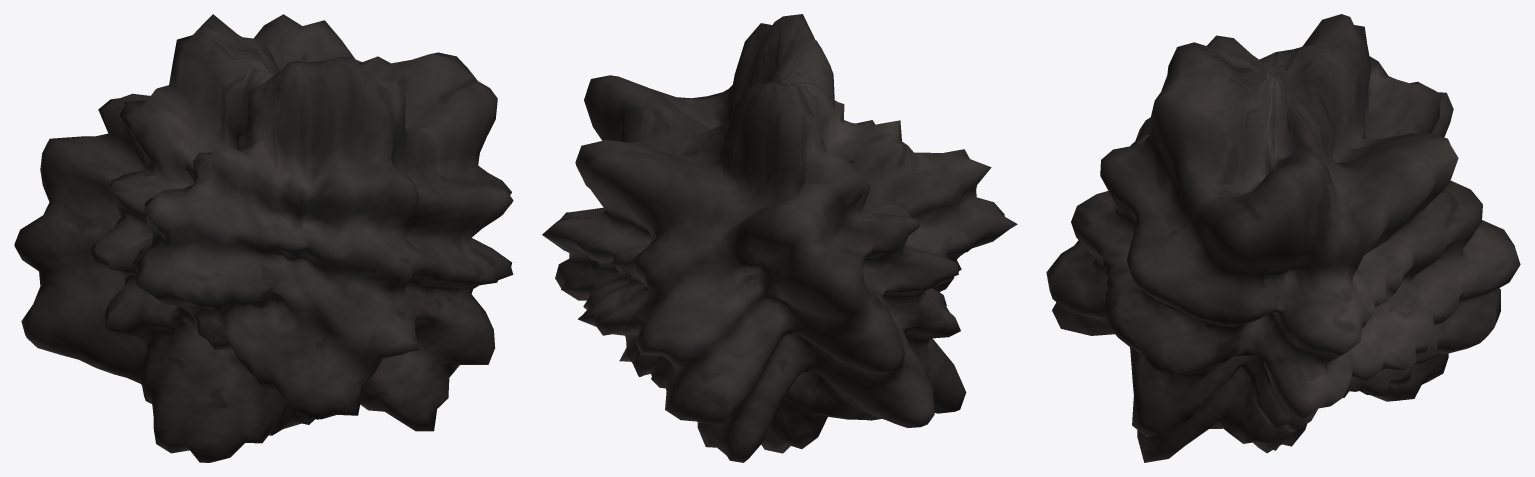
Rendered from PROJECT_Z_VR26_05_Lava_Boulder_Large.glb.
3 renders of one model, left to right at view 1: azimuth 30°, elevation 25°; view 2: azimuth 150°, elevation 25°; view 3: azimuth 270°, elevation 25°, orthographic. The views are drawn at different scales.
Visible parts, largest first — view 1: 05_Lava_Boulder_Large__RENDER_Cooled_Lava_Boulder; view 2: 05_Lava_Boulder_Large__RENDER_Cooled_Lava_Boulder; view 3: 05_Lava_Boulder_Large__RENDER_Cooled_Lava_Boulder.
Boxes of the visible parts, x1,y1,x2,y2 form: 05_Lava_Boulder_Large__RENDER_Cooled_Lava_Boulder: [14, 14, 513, 462]; 05_Lava_Boulder_Large__RENDER_Cooled_Lava_Boulder: [542, 14, 1017, 462]; 05_Lava_Boulder_Large__RENDER_Cooled_Lava_Boulder: [1046, 14, 1520, 462].
Bounding box in the file's own units: 2.71 × 2.51 × 2.59.
Materials: 1 (1 with a texture image).
